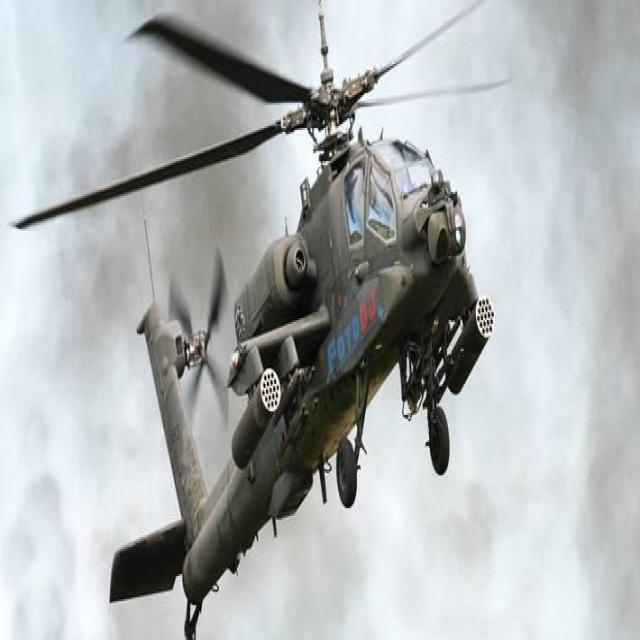MIL_HELO: (9, 10, 529, 640)
